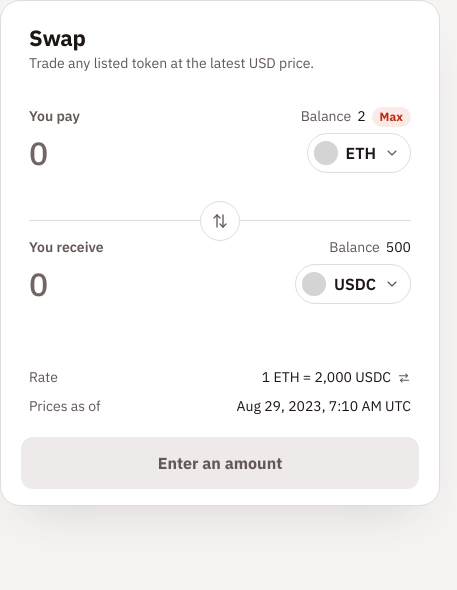
SwapForm › flips the pair, keeping the typed amount with its token
The width and height of the screenshot is (457, 590).
Type "1" into the field labelled "You pay" at (162, 153), box [29, 133, 295, 173]
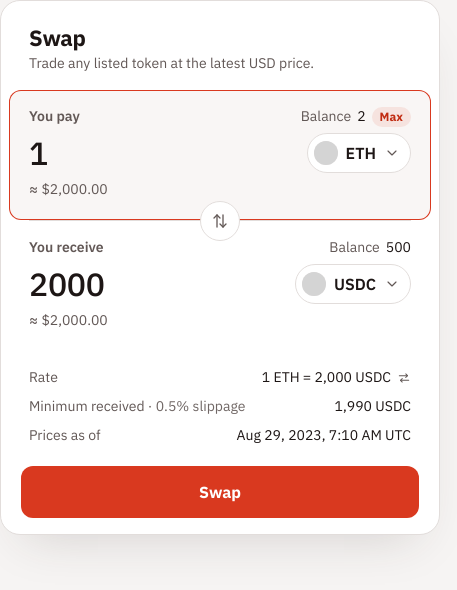
Click the button named "Switch pay and receive tokens" at (220, 221), box [200, 201, 240, 241]
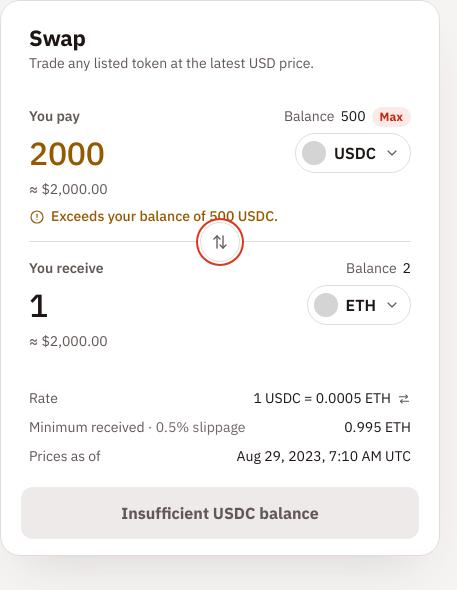
Expected: the button with aria-label "You pay: USDC. Change token" is shown, [295, 133, 411, 173]
Expected: the field labelled "You receive" holds "1", [29, 285, 295, 325]
Expected: the field labelled "You pay" holds "2000", [29, 133, 283, 173]
